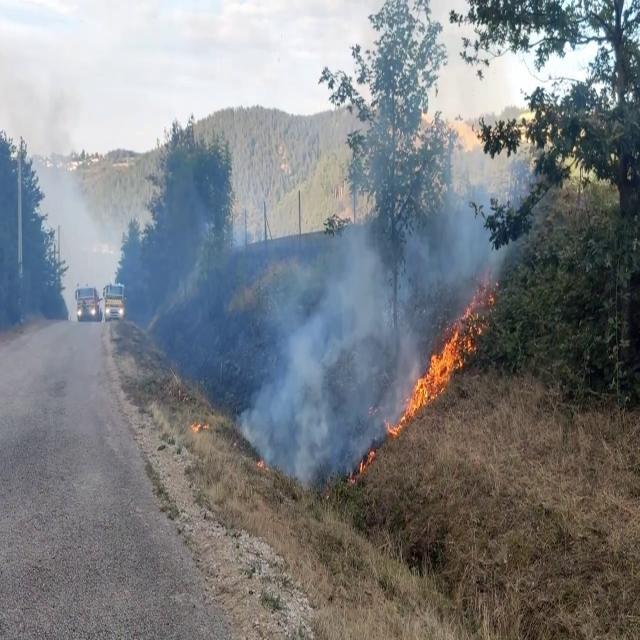Fire: (408, 306, 476, 418)
Smoke: (244, 174, 418, 488), (0, 44, 116, 370)
